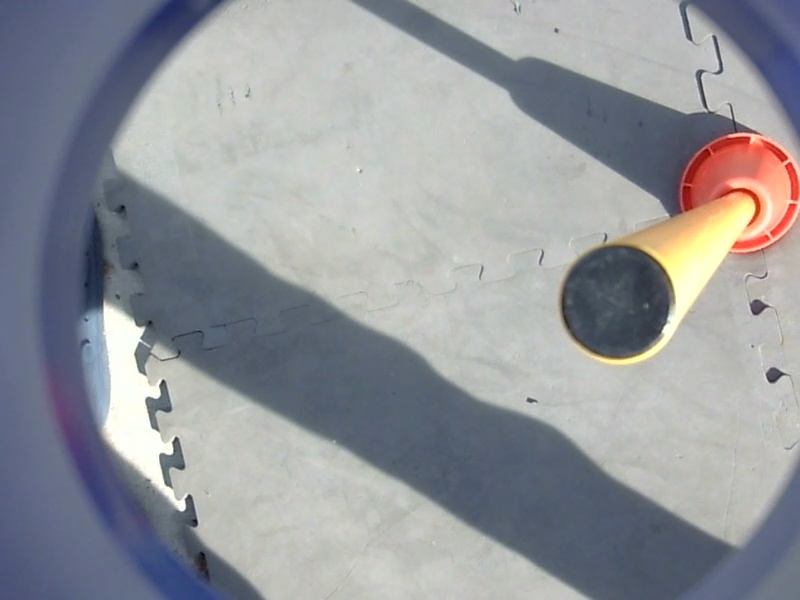tip: (550, 238, 684, 371)
